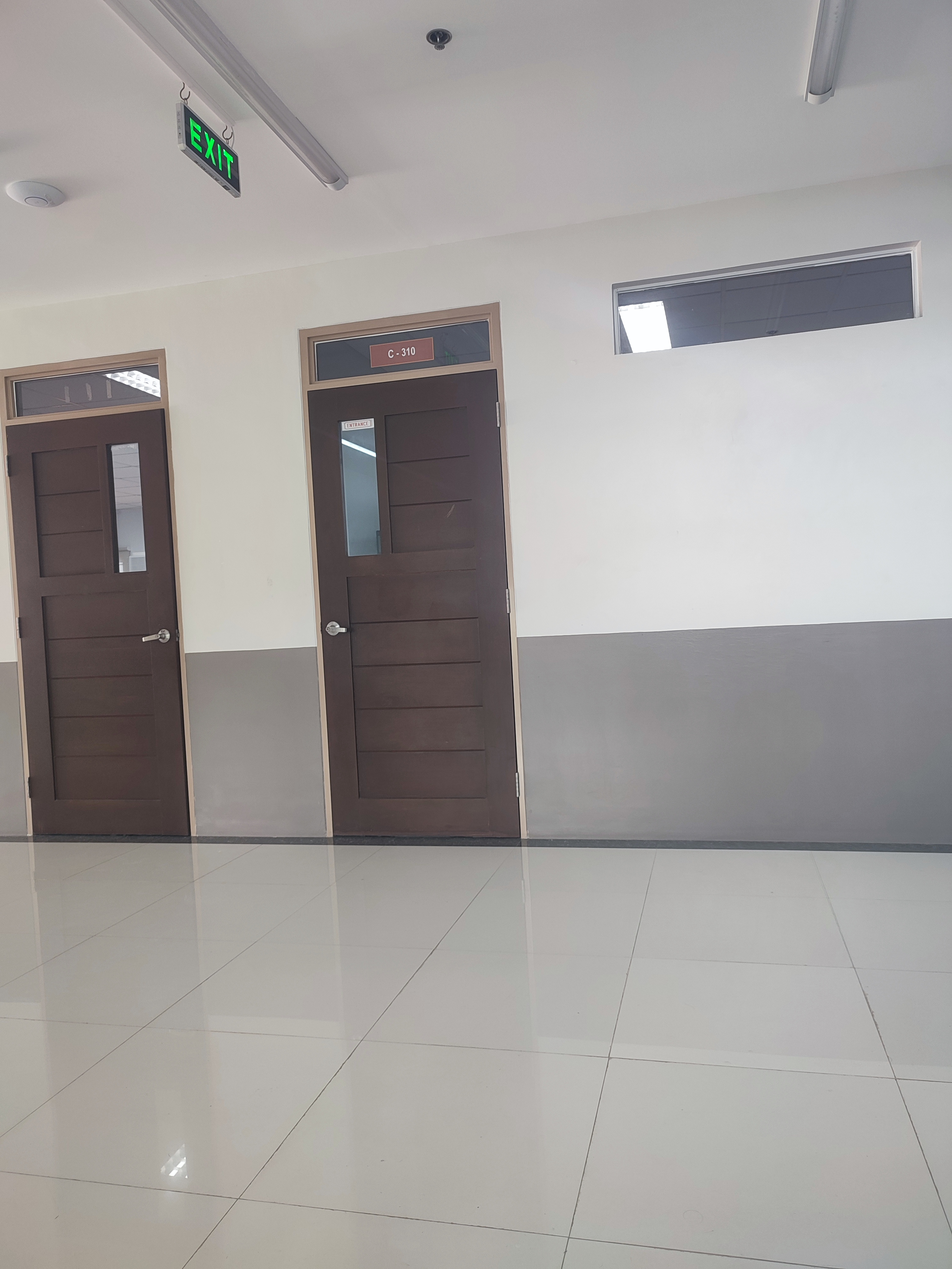door: (294, 301, 525, 849), (0, 352, 191, 844)
